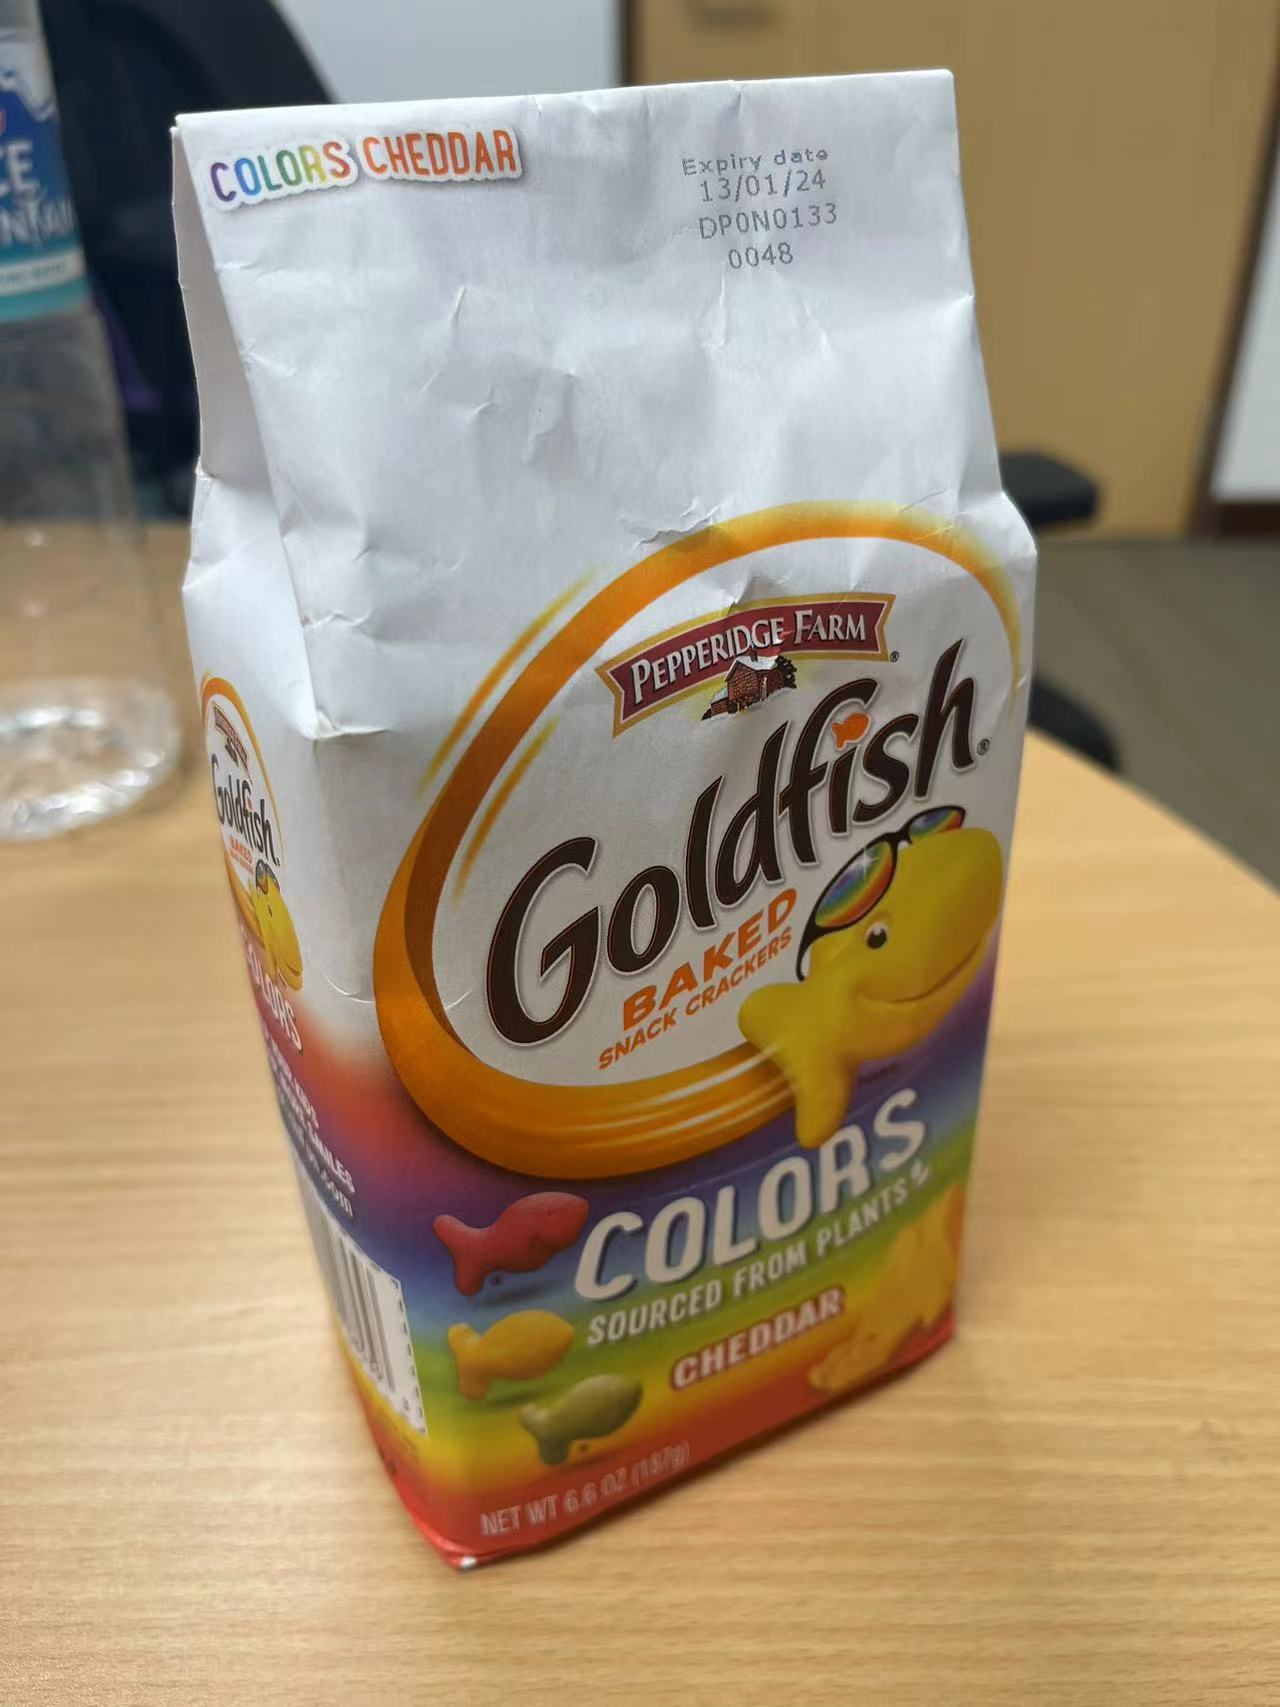Crackers_100-199g_NonHalal_NonHealthy: (191, 114, 991, 1552)
